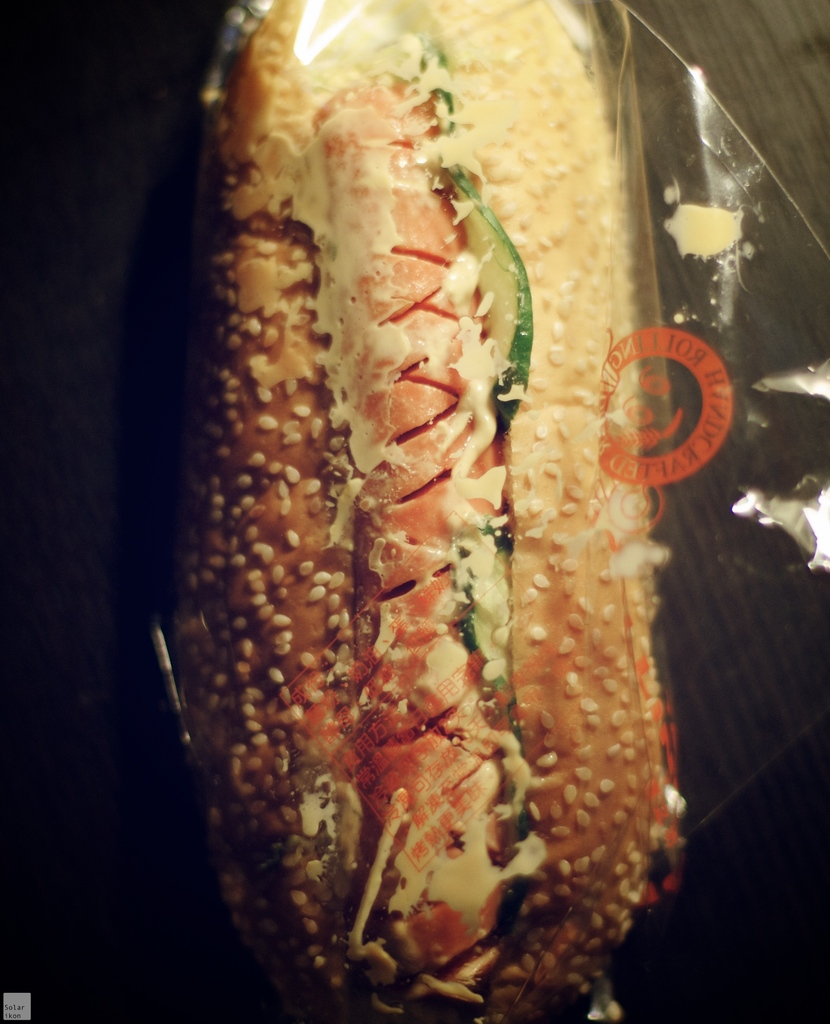hot_dog: (149, 0, 694, 1023)
